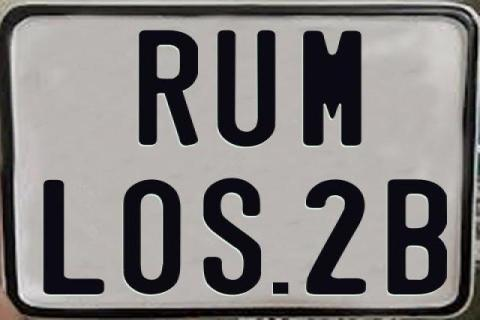0: (304, 178, 366, 296), (121, 177, 179, 293)
B: (385, 178, 449, 294)
L: (42, 180, 109, 295)
M: (302, 29, 363, 147)
R: (136, 28, 201, 144)
S: (201, 178, 261, 298)
U: (215, 29, 279, 148)
